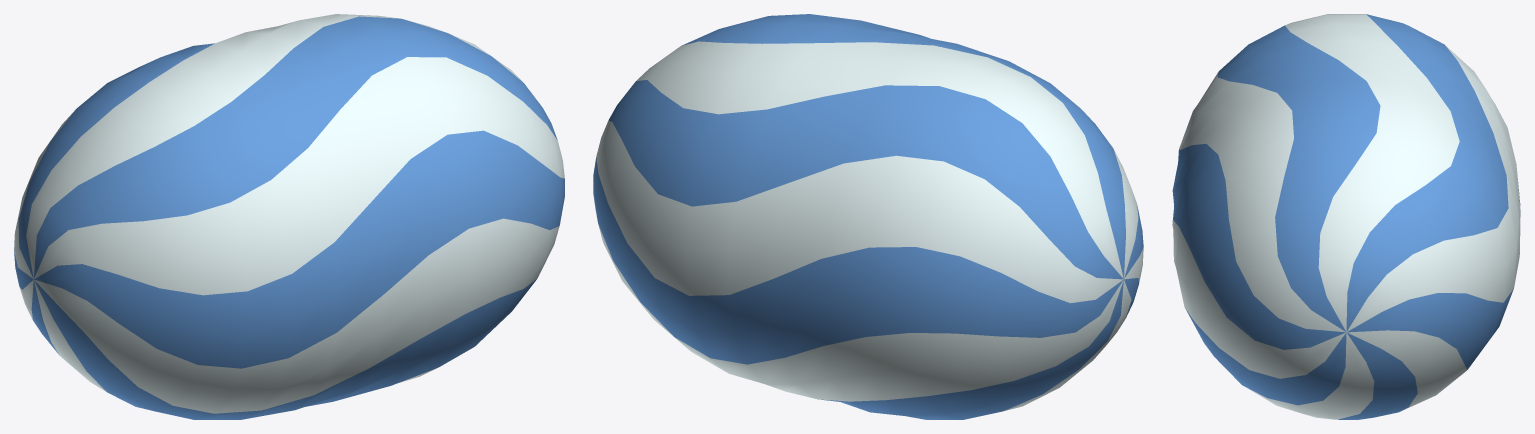
Rendered from Candy_B_01.fbx.
3 views of the same model, side by side, from view 1: azimuth 30°, elevation 25°; view 2: azimuth 150°, elevation 25°; view 3: azimuth 270°, elevation 25° (orthographic). The views are drawn at different scales.
Visible parts, largest first — view 1: Candy_B_01_LOD0; view 2: Candy_B_01_LOD0; view 3: Candy_B_01_LOD0.
Part boxes in pixels (bbox=[...]): Candy_B_01_LOD0: bbox=[14, 14, 564, 419]; Candy_B_01_LOD0: bbox=[593, 14, 1143, 419]; Candy_B_01_LOD0: bbox=[1172, 14, 1520, 419].
Size of what is drawn, in the model's own units: 441 by 284 by 284.
